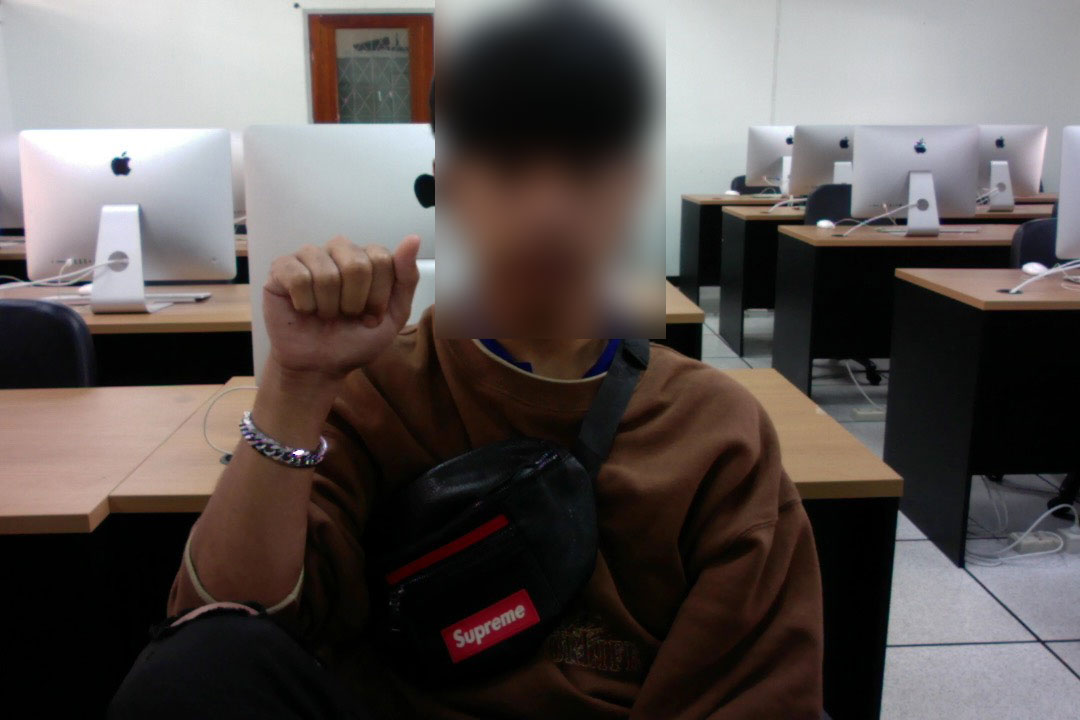or: (250, 226, 426, 392)
